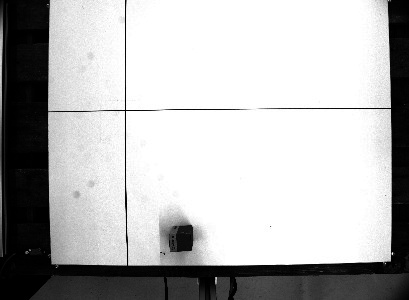b3: (165, 222, 195, 254)
